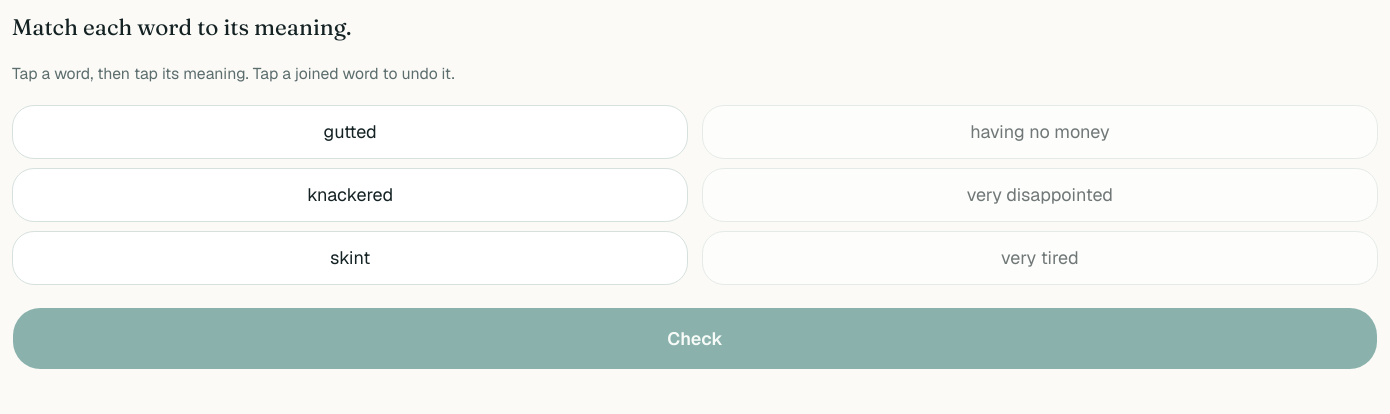
Test case: match_pairs on the wrong path › says nothing extra when the pairing was right
Click the button "skint".
click(350, 258)  # box [12,230,688,284]
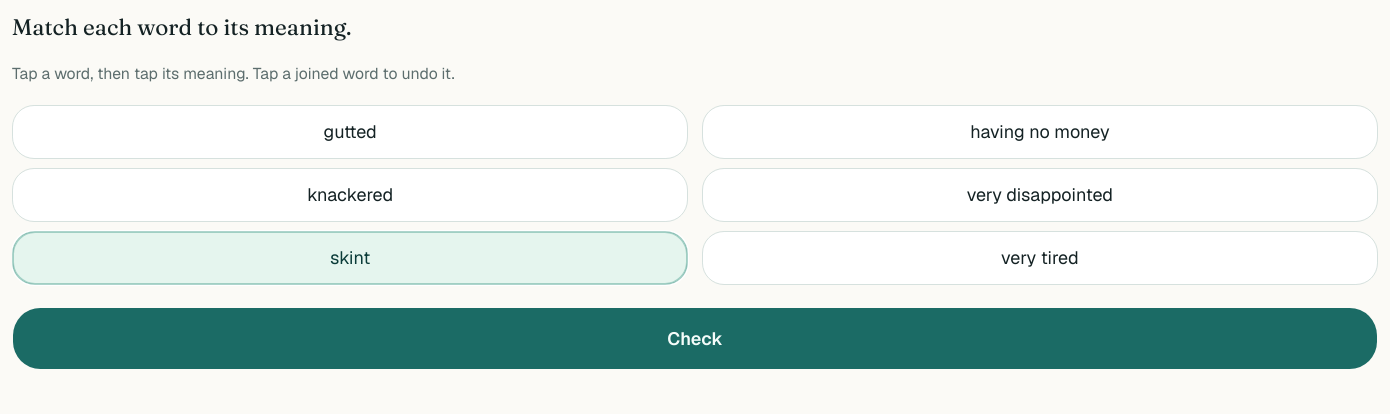
Click the button "having no money".
click(1040, 132)  # box [702,104,1378,158]
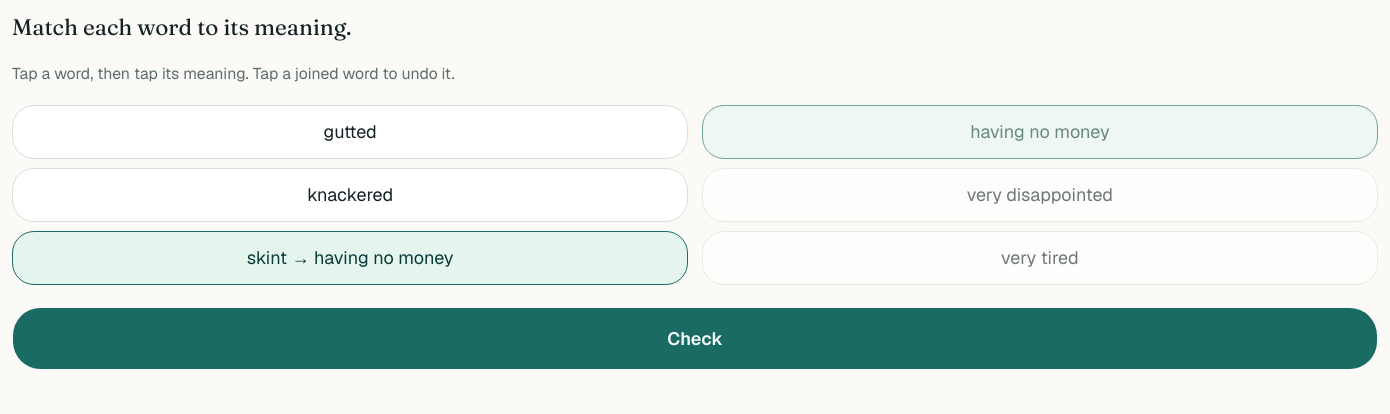
Click the button "Check".
click(695, 338)  # box [12,307,1378,370]
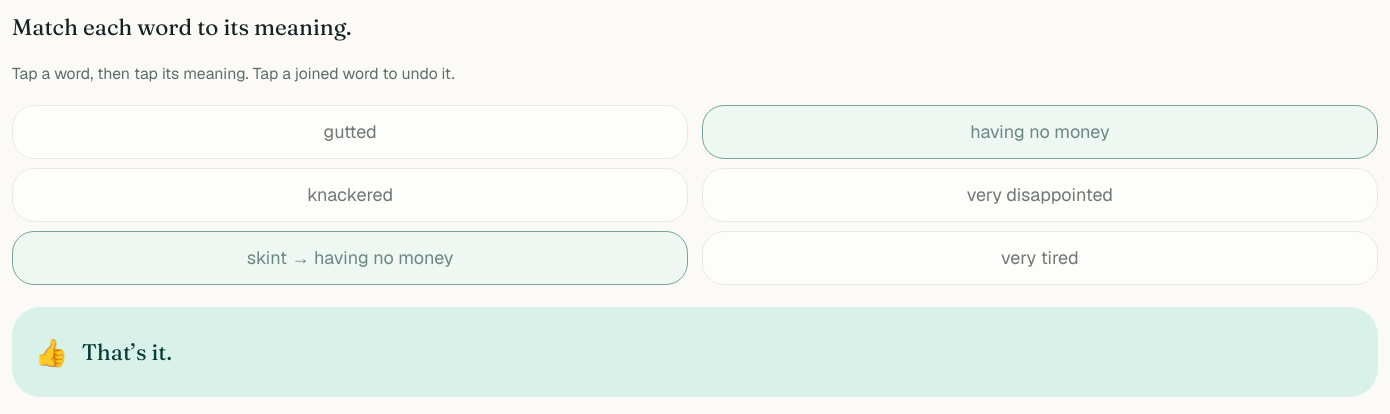
expect the element with test id "feedback" is shown: met, box [12,307,1378,397]
